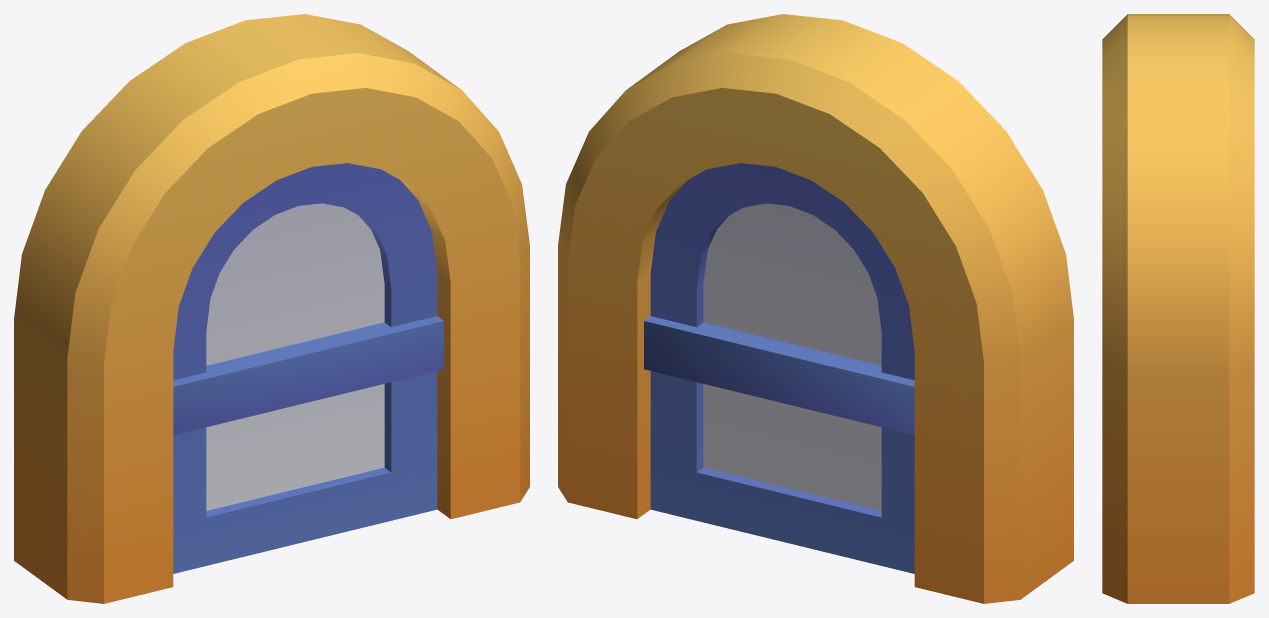
The model's file is door-rotate-large.glb.
The picture shows the model from 3 angles, left to right: view 1: azimuth 30°, elevation 25°; view 2: azimuth 150°, elevation 25°; view 3: azimuth 270°, elevation 25°; orthographic projection. The views are drawn at different scales.
Parts seen in each view (by area): view 1: door-rotate-large, door; view 2: door-rotate-large, door; view 3: door-rotate-large.
Part boxes in pixels (left/top/right/bottom): door-rotate-large: left=14, top=14, right=529, bottom=603; door: left=173, top=163, right=443, bottom=573; door-rotate-large: left=558, top=14, right=1073, bottom=603; door: left=644, top=163, right=914, bottom=573; door-rotate-large: left=1102, top=14, right=1254, bottom=603.
Size of the model in its own units: 1 by 1 by 0.3.
Materials: 1 (1 with a texture image).
